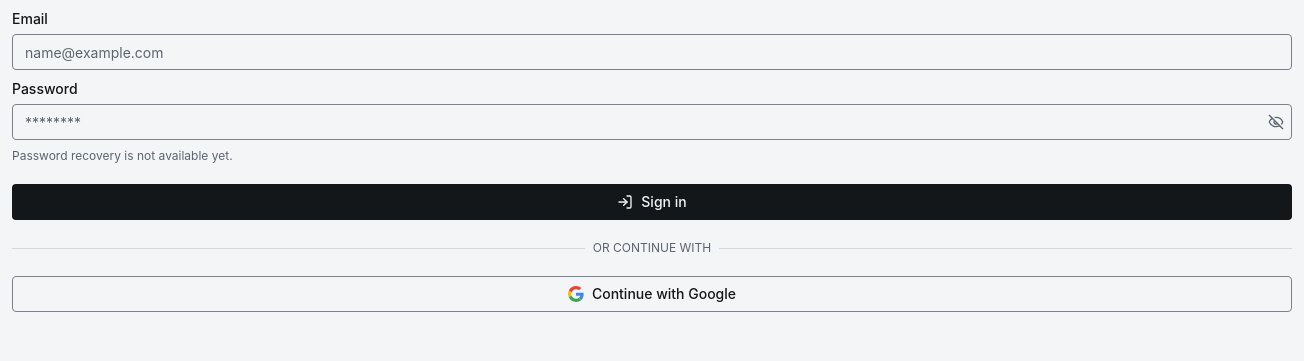
Test: email and Google sign-in › shows credential errors without treating login 401 as session expiry
This screenshot has width=1304, height=361.
Type "user@example.com" into the field labelled "Email" at {"x": 652, "y": 52}, box top-left (12, 34), bottom-right (1292, 70)
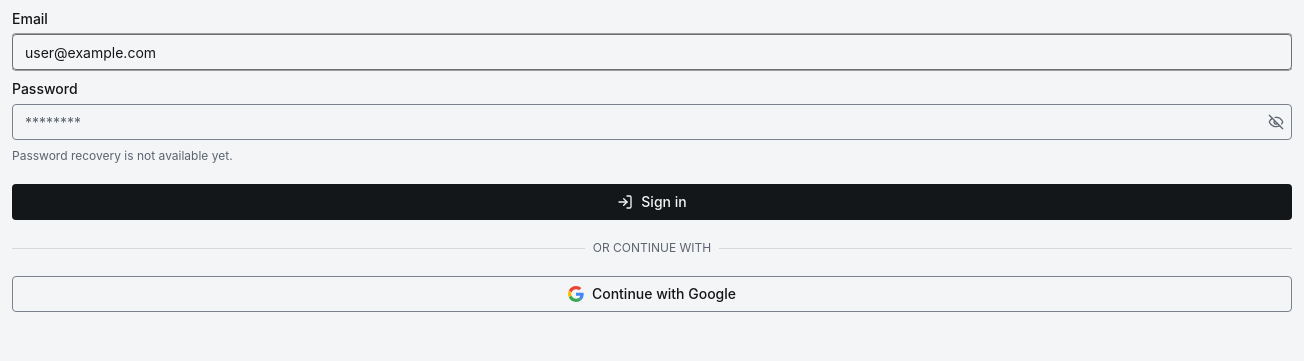
Type "wrong" into the password field labelled "Password" at {"x": 652, "y": 122}, box top-left (12, 104), bottom-right (1292, 140)
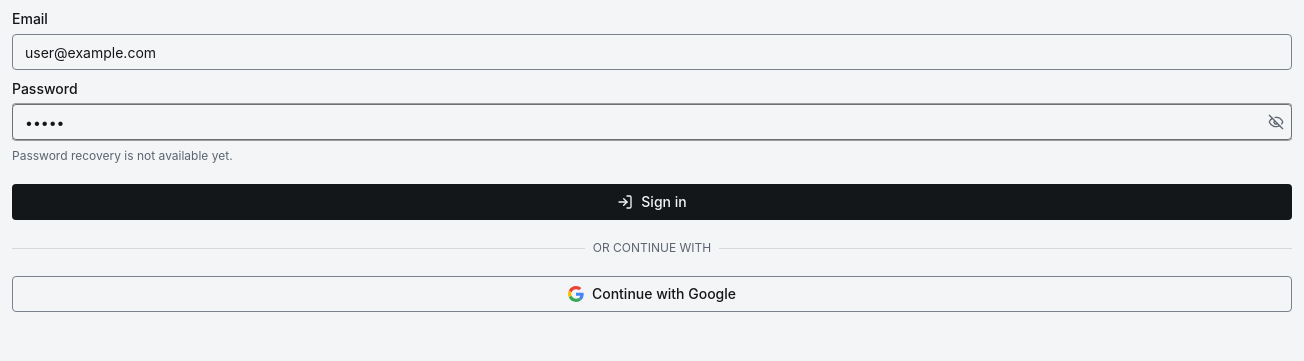
Click the button "Sign in" at {"x": 652, "y": 202}, box top-left (12, 184), bottom-right (1292, 220)
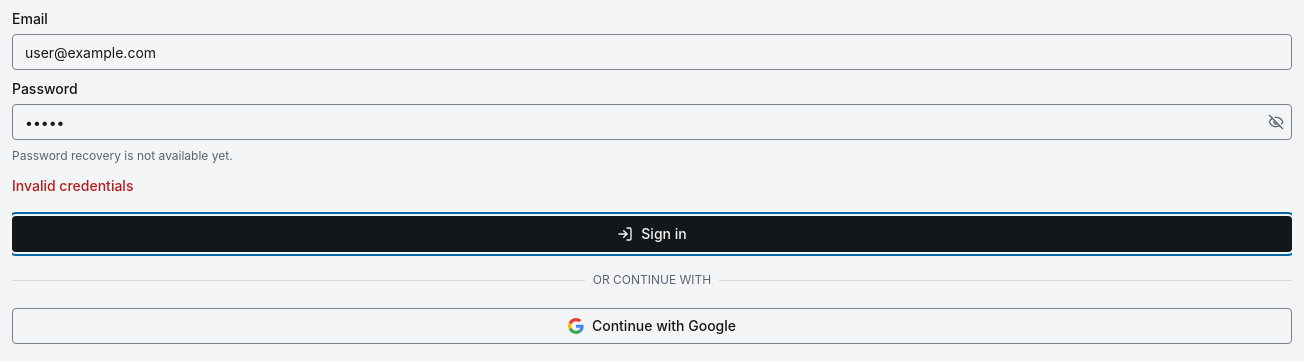
expect the message reads "Invalid credentials": met, box top-left (12, 177), bottom-right (133, 194)
